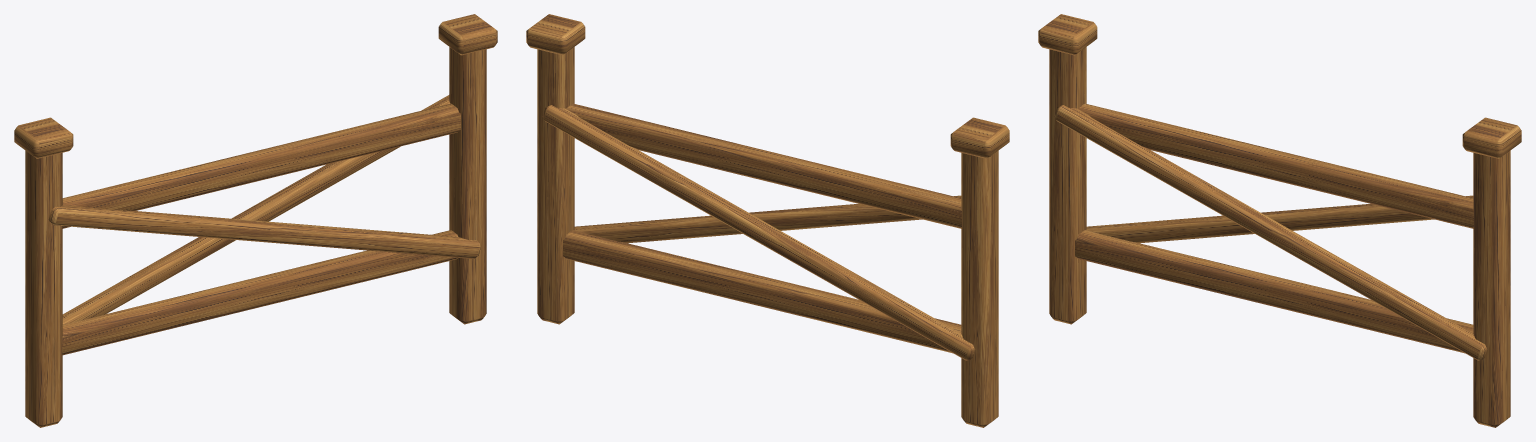
The model's file is 11_Valla_Cruzada.obj.
The picture shows the model from 3 angles, left to right: view 1: azimuth 30°, elevation 25°; view 2: azimuth 150°, elevation 25°; view 3: azimuth 330°, elevation 25°; orthographic projection.
Visible parts, largest first — view 1: 11_Valla_Cruzada_Wood; view 2: 11_Valla_Cruzada_Wood; view 3: 11_Valla_Cruzada_Wood.
Boxes of the visible parts, <box> form: 11_Valla_Cruzada_Wood: <box>14,14,497,427</box>; 11_Valla_Cruzada_Wood: <box>526,14,1009,427</box>; 11_Valla_Cruzada_Wood: <box>1038,14,1521,427</box>.
Size of the model in its own units: 2.19 by 1.33 by 0.195.
Materials: 1 (1 with a texture image).
